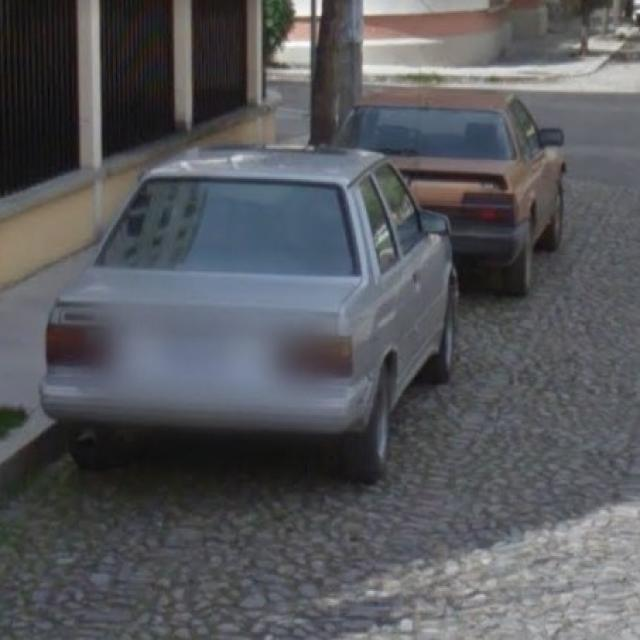cars: (46, 146, 452, 454), (352, 61, 570, 228)
